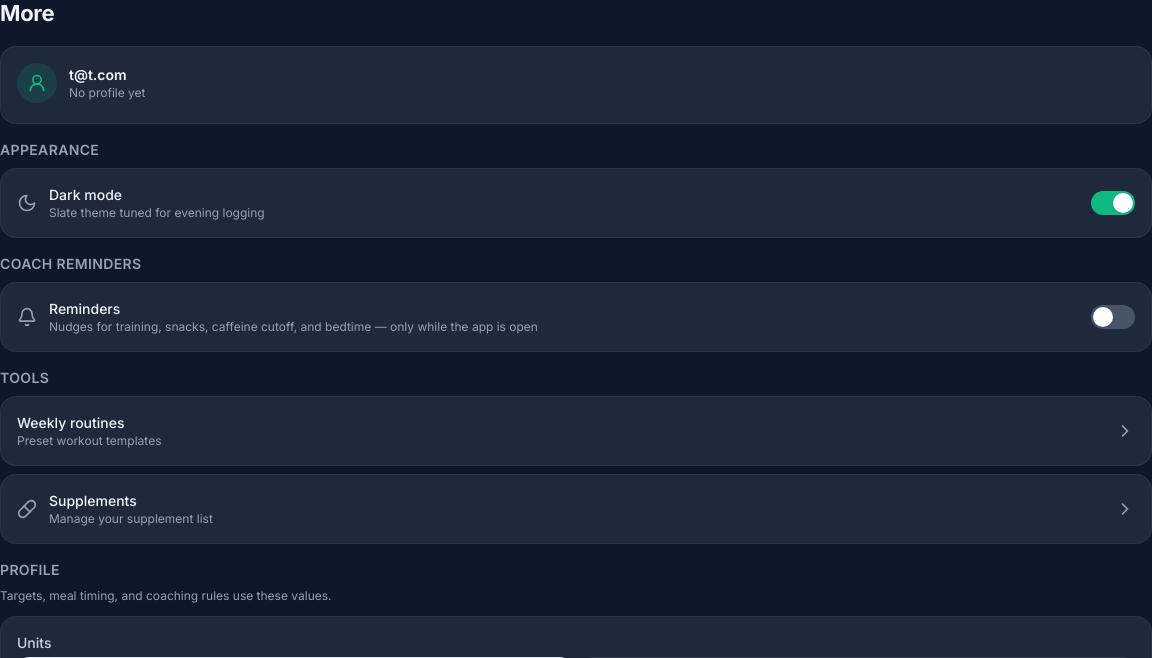
Test case: Settings reminders › shows a blocked message and stays off when permission is denied
Click the switch labelled "Reminders": [85, 309] box [0,282,1151,352]
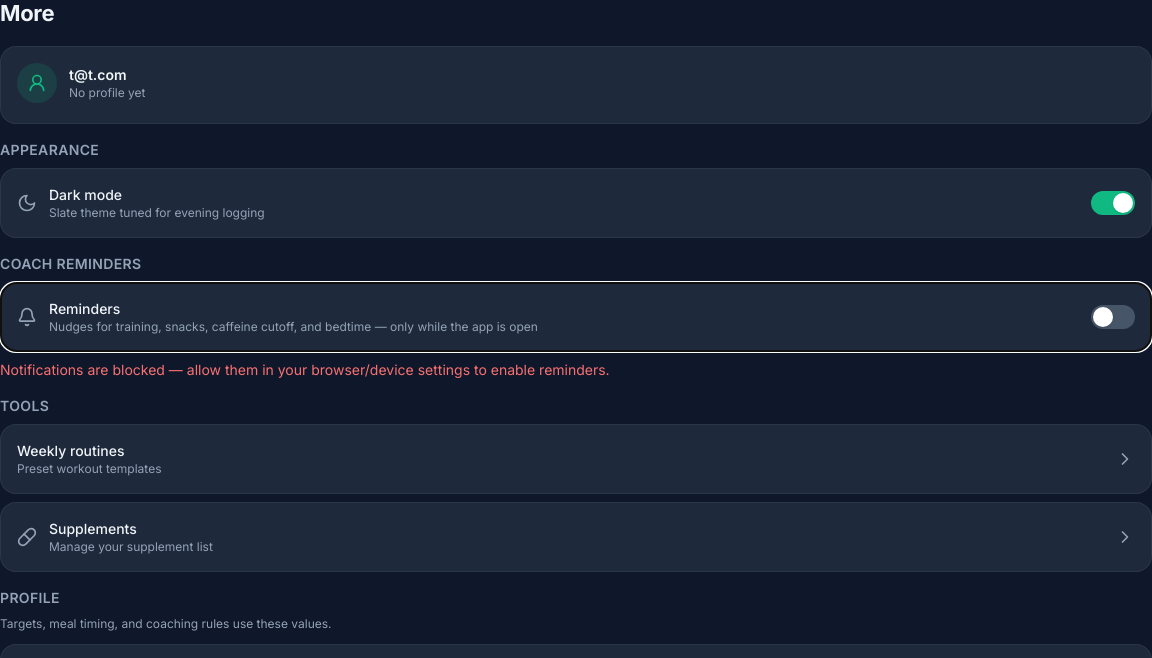
Now the text "Notifications are blocked" is shown, box [0,361,610,378]
